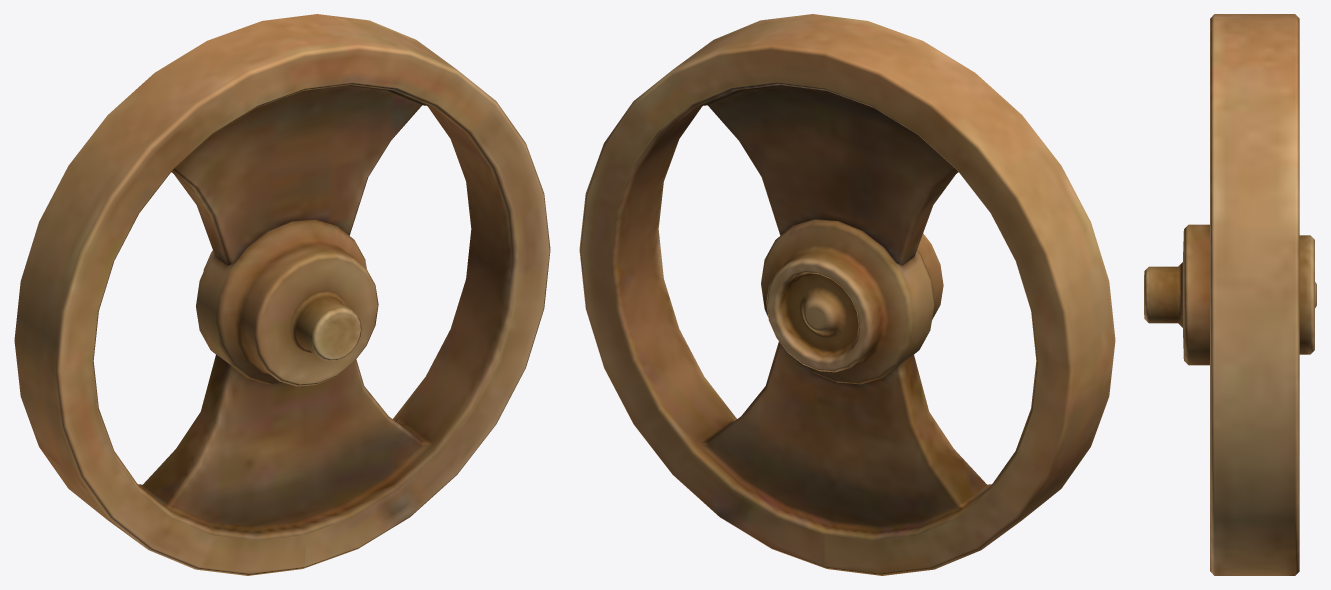
The model's file is Wheel1.fbx.
3 renders of one model, left to right at view 1: azimuth 30°, elevation 25°; view 2: azimuth 150°, elevation 25°; view 3: azimuth 270°, elevation 25°, orthographic.
Parts seen in each view (by area): view 1: Cube.006; view 2: Cube.006; view 3: Cube.006.
Part boxes in pixels (left/top/right/bottom): Cube.006: left=14, top=14, right=550, bottom=575; Cube.006: left=579, top=14, right=1115, bottom=575; Cube.006: left=1144, top=14, right=1316, bottom=575.
Bounding box in the file's own units: 223 × 223 × 68.64.
